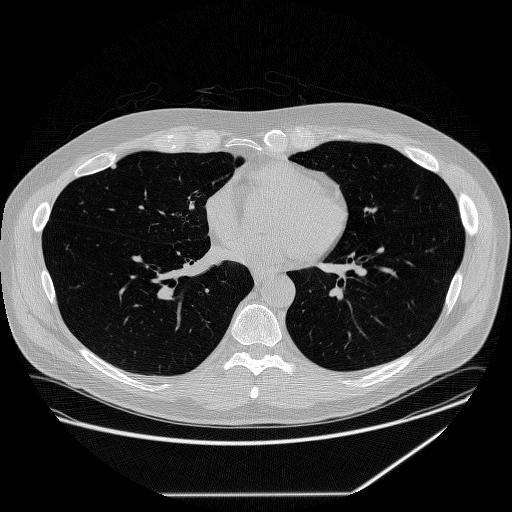nodule: (109, 161, 119, 171)
